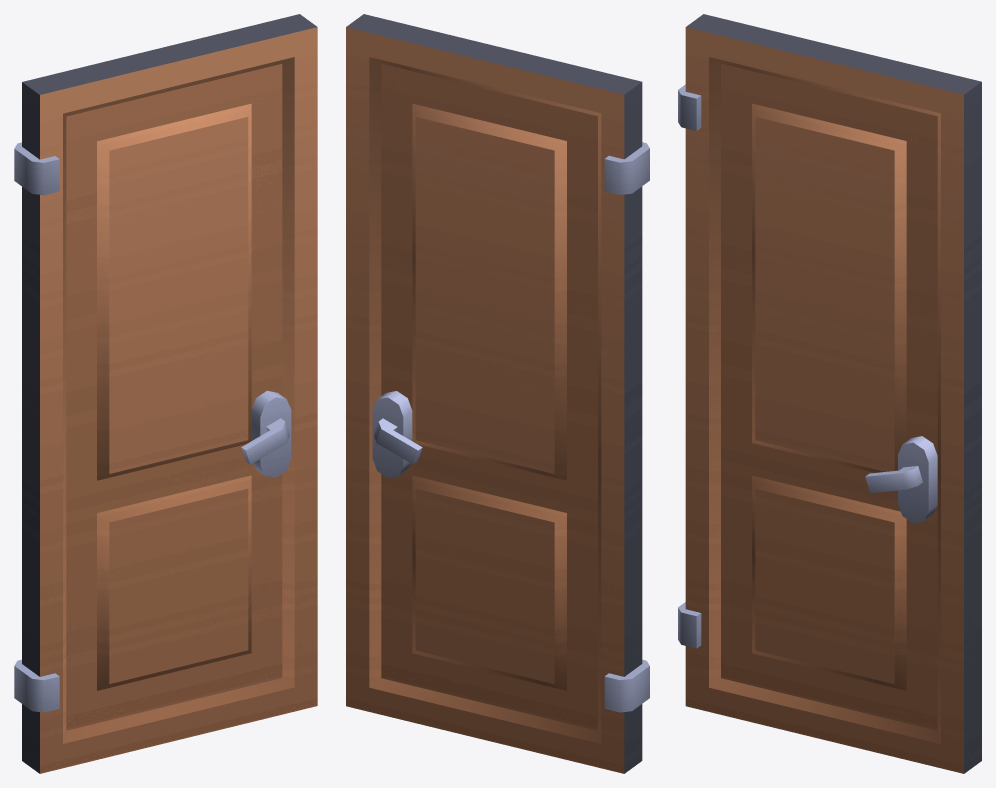
File: Shell_FrontDoor.glb
3 views of the same model, side by side, from view 1: azimuth 30°, elevation 25°; view 2: azimuth 150°, elevation 25°; view 3: azimuth 330°, elevation 25° (orthographic).
Parts seen in each view (by area): view 1: Shell_FrontDoor; view 2: Shell_FrontDoor; view 3: Shell_FrontDoor.
Part boxes in pixels (x1,y1,x2,y2): Shell_FrontDoor: (14, 14, 317, 773); Shell_FrontDoor: (346, 14, 649, 773); Shell_FrontDoor: (678, 14, 981, 773).
Bounding box in the file's own units: 0.9251 × 2.1 × 0.2502.
1 material, 1 textured.
